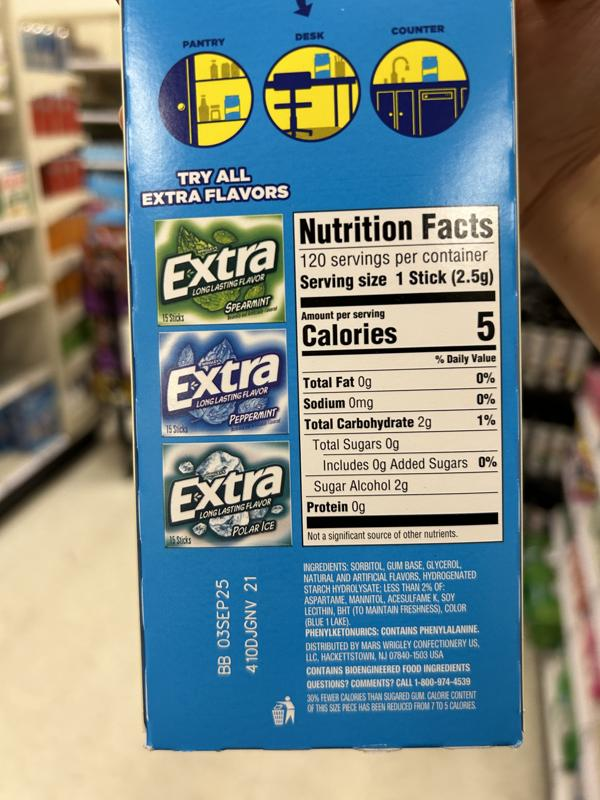ingredients: (300, 557, 480, 628)
